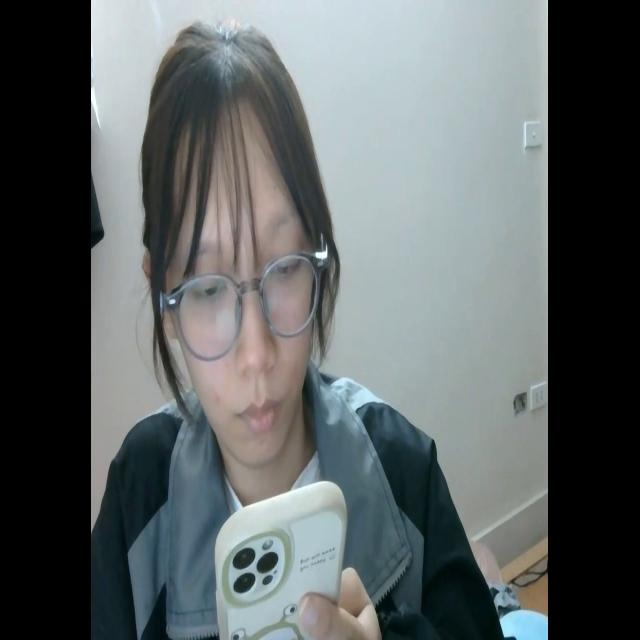phone: (207, 467, 348, 640)
student: (88, 23, 506, 640)
